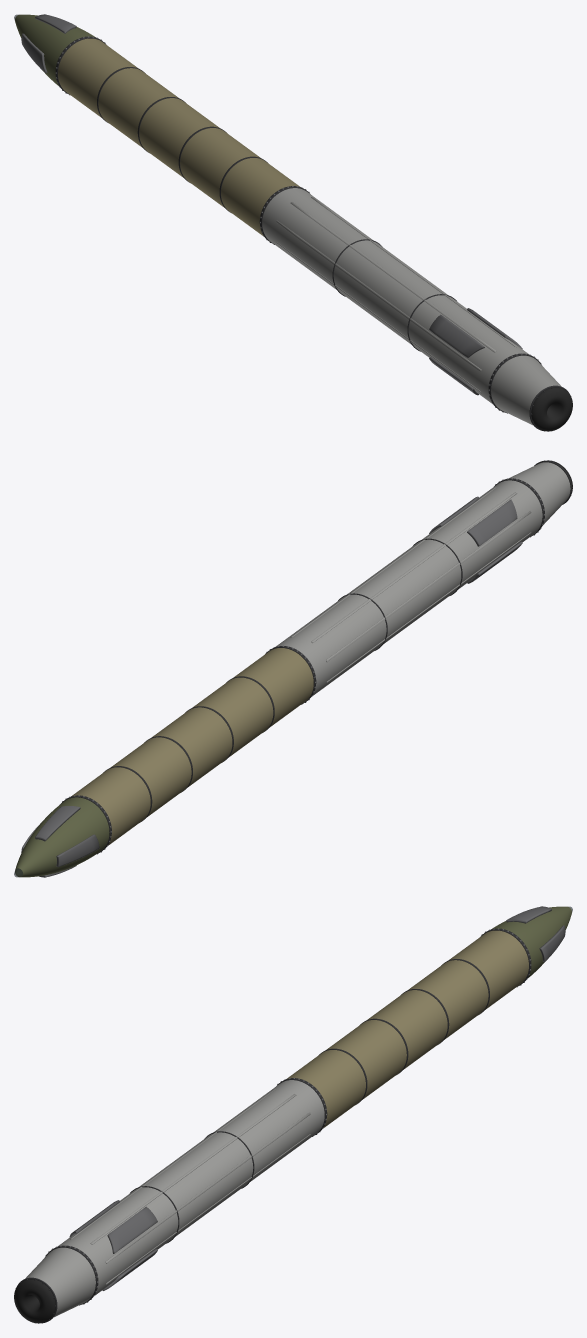
The model's file is gmlrs_rocket.glb.
The picture shows the model from 3 angles, top to bottom: view 1: azimuth 30°, elevation 25°; view 2: azimuth 150°, elevation 25°; view 3: azimuth 330°, elevation 25°; orthographic projection.
Visible parts, largest first — view 1: gmlrs; view 2: gmlrs; view 3: gmlrs.
Part boxes in pixels (x1,y1,x2,y2): gmlrs: [14, 14, 572, 431]; gmlrs: [14, 460, 572, 877]; gmlrs: [14, 906, 572, 1323].
Size of the model in its own units: 0.2378 by 0.2378 by 3.96.
